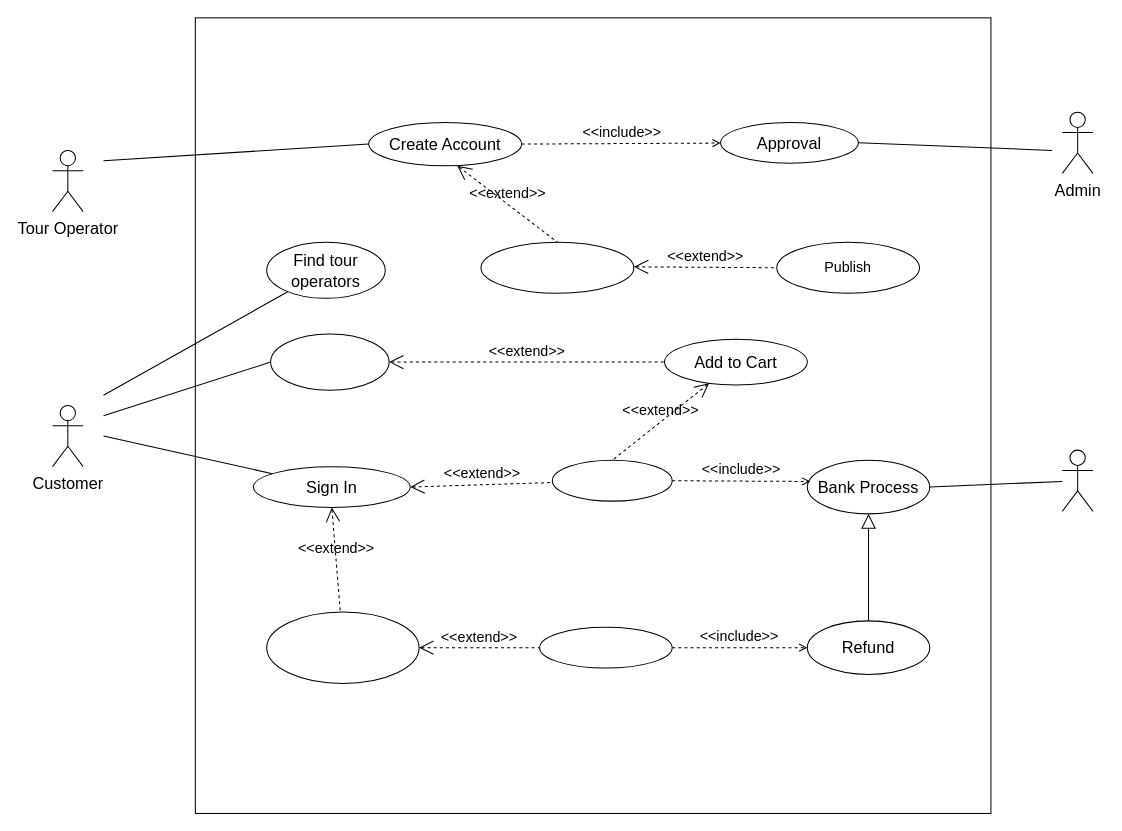
The diagram is 1122 pixels wide and 831 high, and some of its shapes have lost their labels. The shapes that lost their labels are listed below. From the top down, each one's box as (x1, y1, x2, y2) in pixels, then its label:
(480, 241, 634, 293): Create Itinerary
(270, 333, 389, 390): Search Iterninary
(551, 459, 672, 501): Check Out
(1061, 449, 1093, 511): System
(266, 611, 419, 683): View Purchased Plans
(539, 626, 672, 668): Cancel Tour
